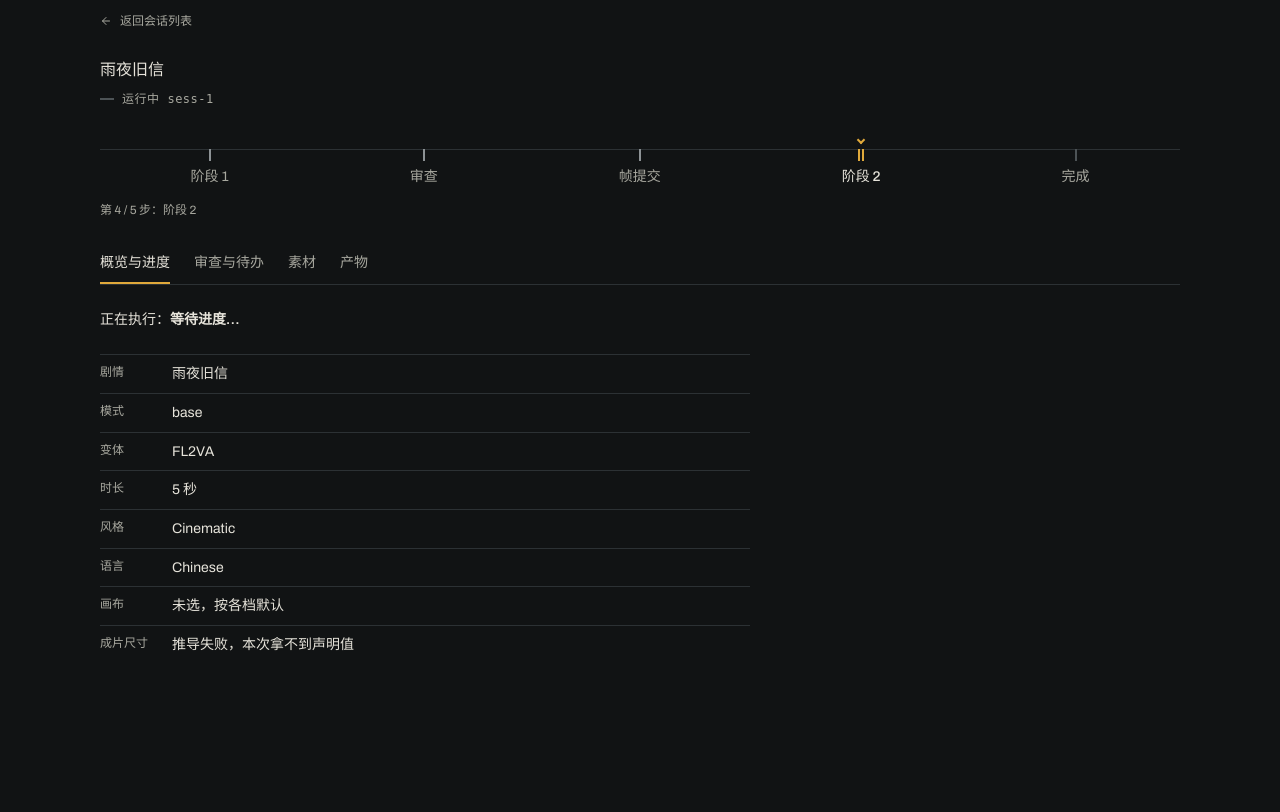
SessionDetailView 审查与修订回路（#232） › 已决议帧提交的尺寸回执在「审查与待办」里展示，且帧提交卡已经不在了
Click the tab "审查与待办".
click(229, 264)  # box x1=194 y1=244 x2=264 y2=284
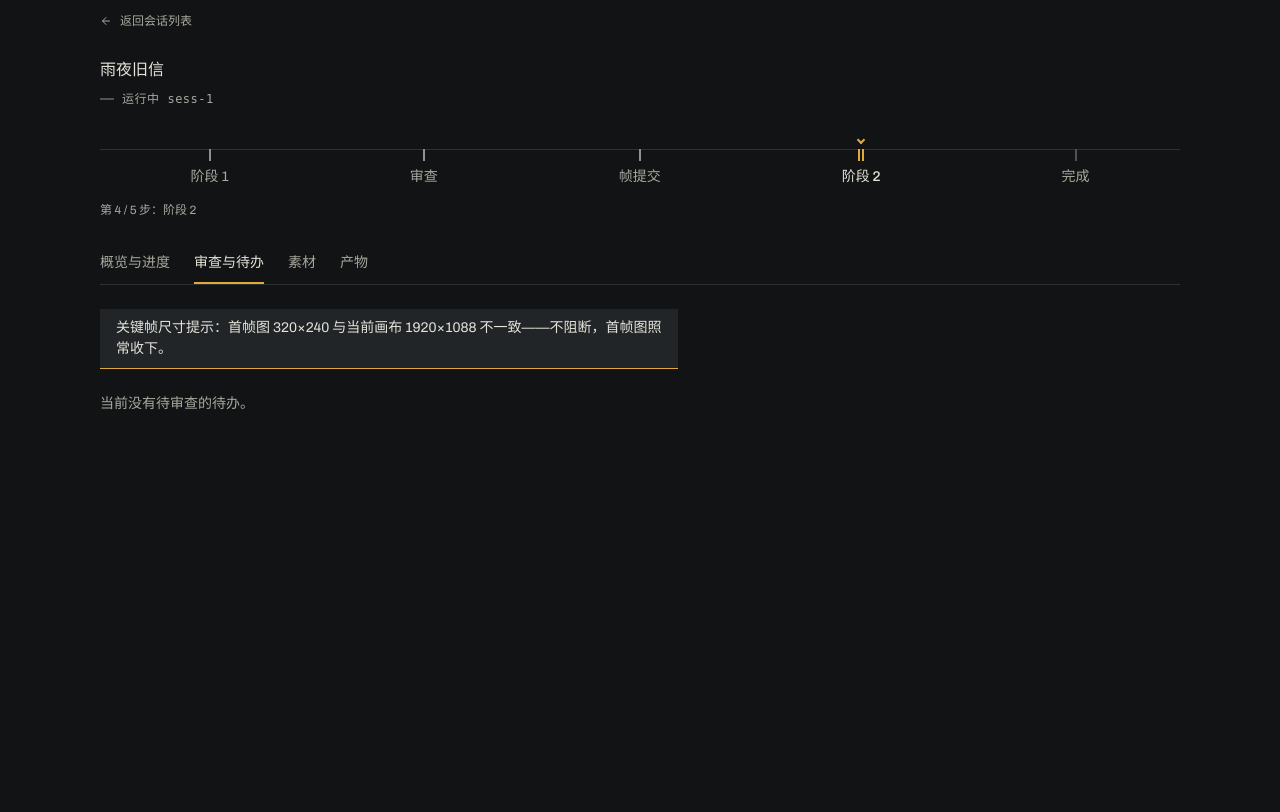
Check: the message "关键帧尺寸提示：首帧图 320×240 与当前画布 1920×1088 不一致——不阻断，首帧图照常收下。" is shown, box x1=100 y1=309 x2=678 y2=369
Check: the panel with id "workbench-panel-review" shows "320×240", box x1=116 y1=320 x2=662 y2=356
Check: the panel with id "workbench-panel-review" shows "1920×1088", box x1=116 y1=320 x2=662 y2=356
